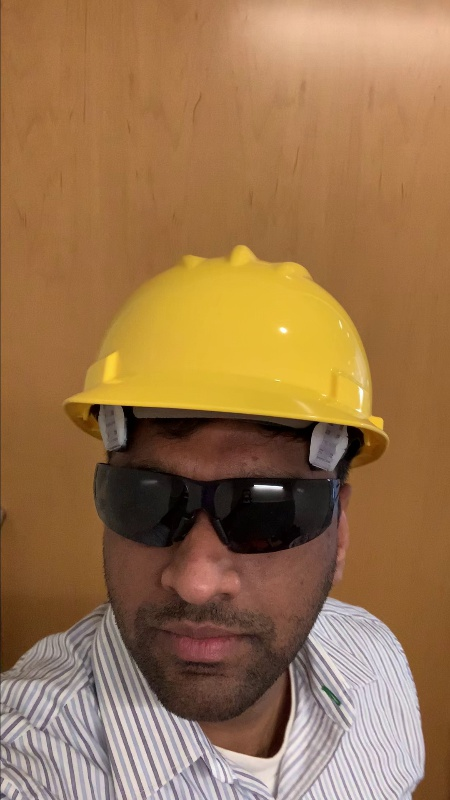glasses: (74, 453, 372, 558)
helmet: (53, 244, 394, 482)
